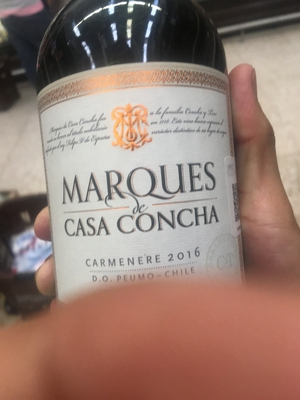marques de casa concha carmenere: (35, 12, 263, 316)
